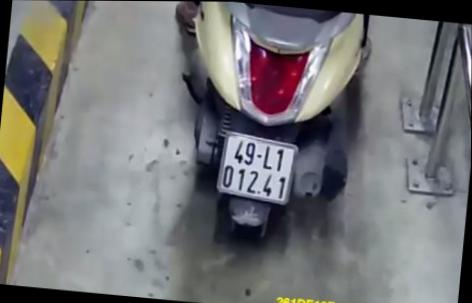LP: (215, 129, 301, 206)
